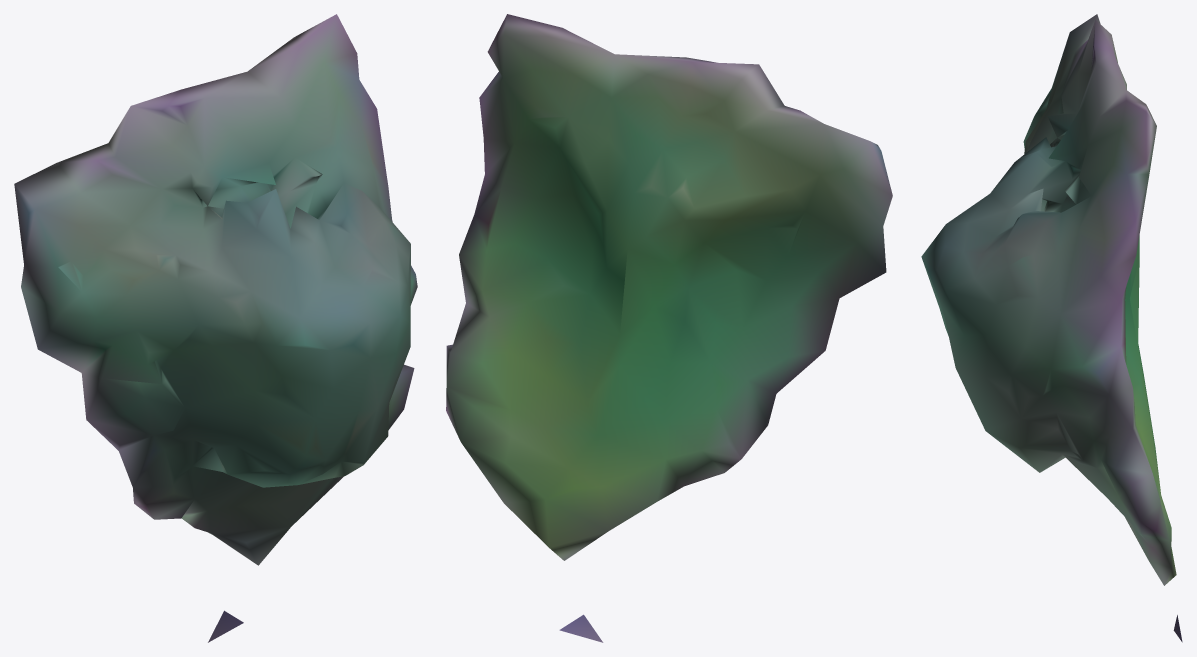
The model's file is fragmento_mi.glb.
3 renders of one model, left to right at view 1: azimuth 30°, elevation 25°; view 2: azimuth 150°, elevation 25°; view 3: azimuth 270°, elevation 25°, orthographic. The views are drawn at different scales.
Size of the model in its own units: 0.7219 by 0.9911 by 0.4112.
